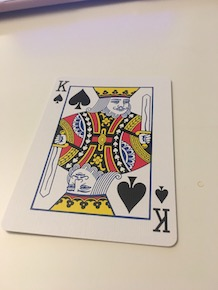KingOfSpades: (2, 73, 186, 250)
